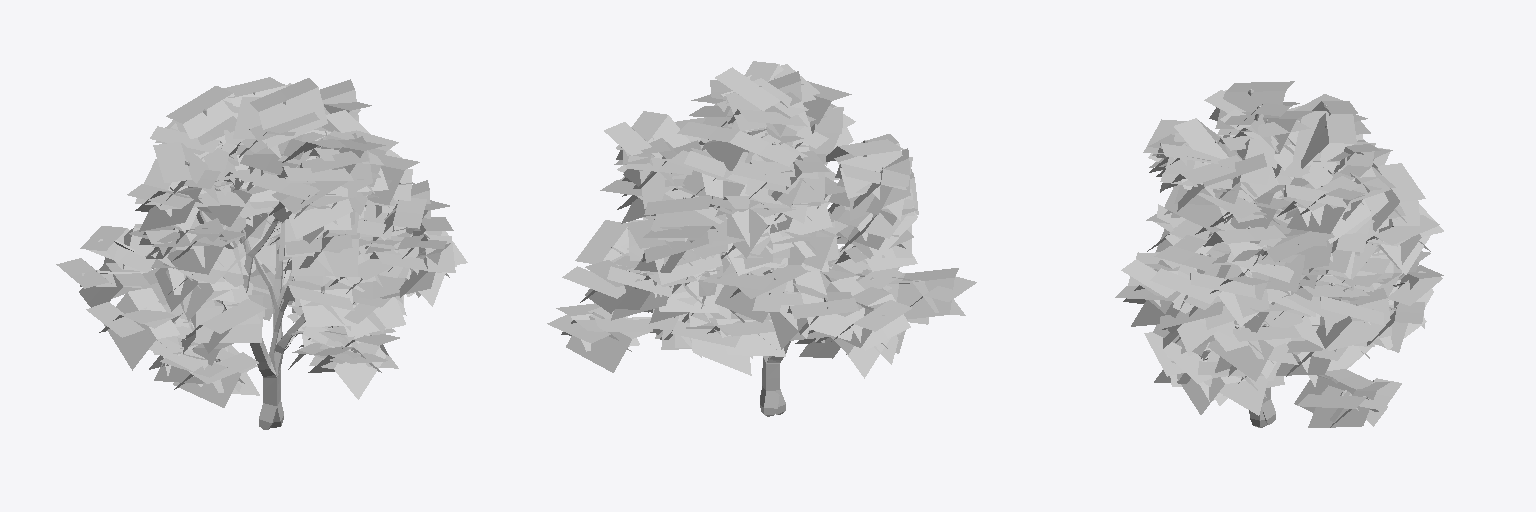
File: tree1.obj
3 renders of one model, left to right at view 1: azimuth 30°, elevation 25°; view 2: azimuth 150°, elevation 25°; view 3: azimuth 270°, elevation 25°, orthographic.
Parts seen in each view (by area): view 1: Wallnut_; view 2: Wallnut_; view 3: Wallnut_.
Boxes of the visible parts, <box> form: Wallnut_: <box>56,77,467,429</box>; Wallnut_: <box>547,61,976,416</box>; Wallnut_: <box>1115,81,1443,427</box>.
Bounding box in the file's own units: 1.55 × 1.41 × 1.27.